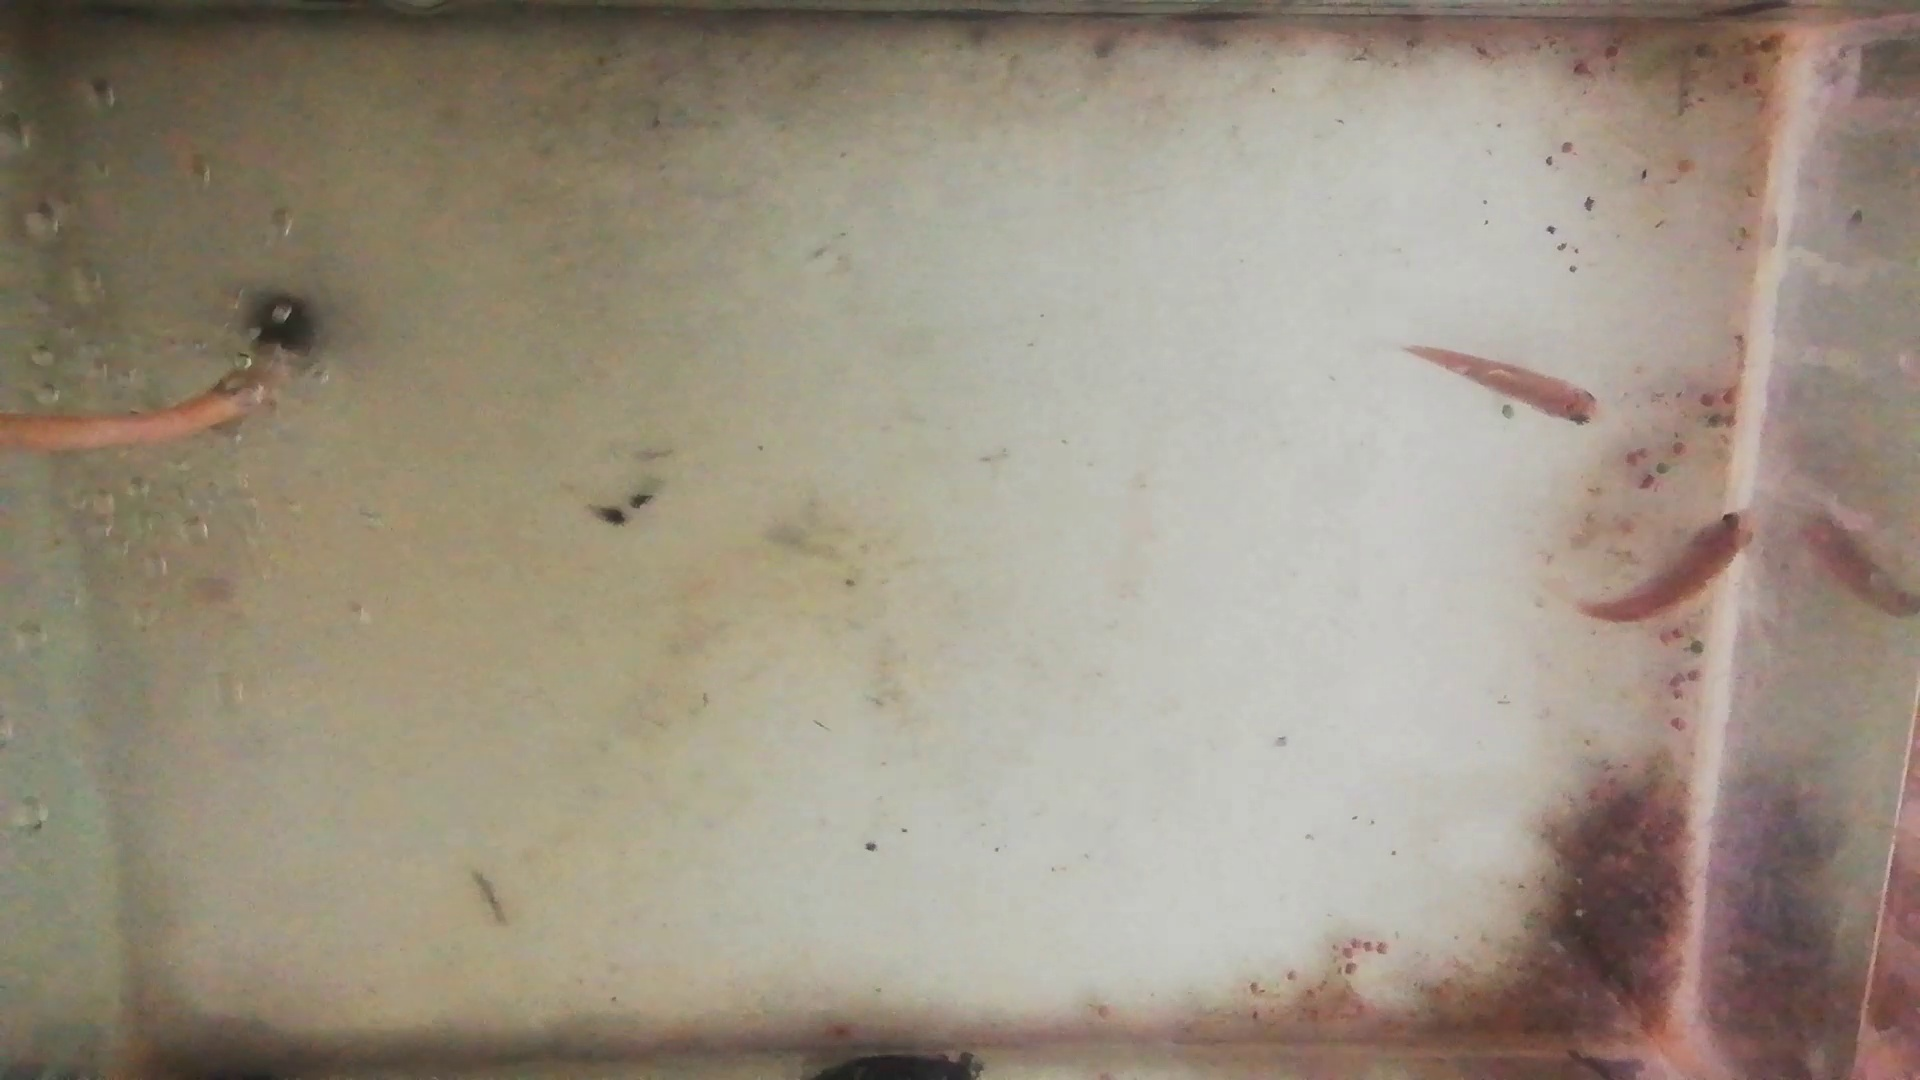fish: (1578, 510, 1756, 624), (1414, 342, 1602, 429)
